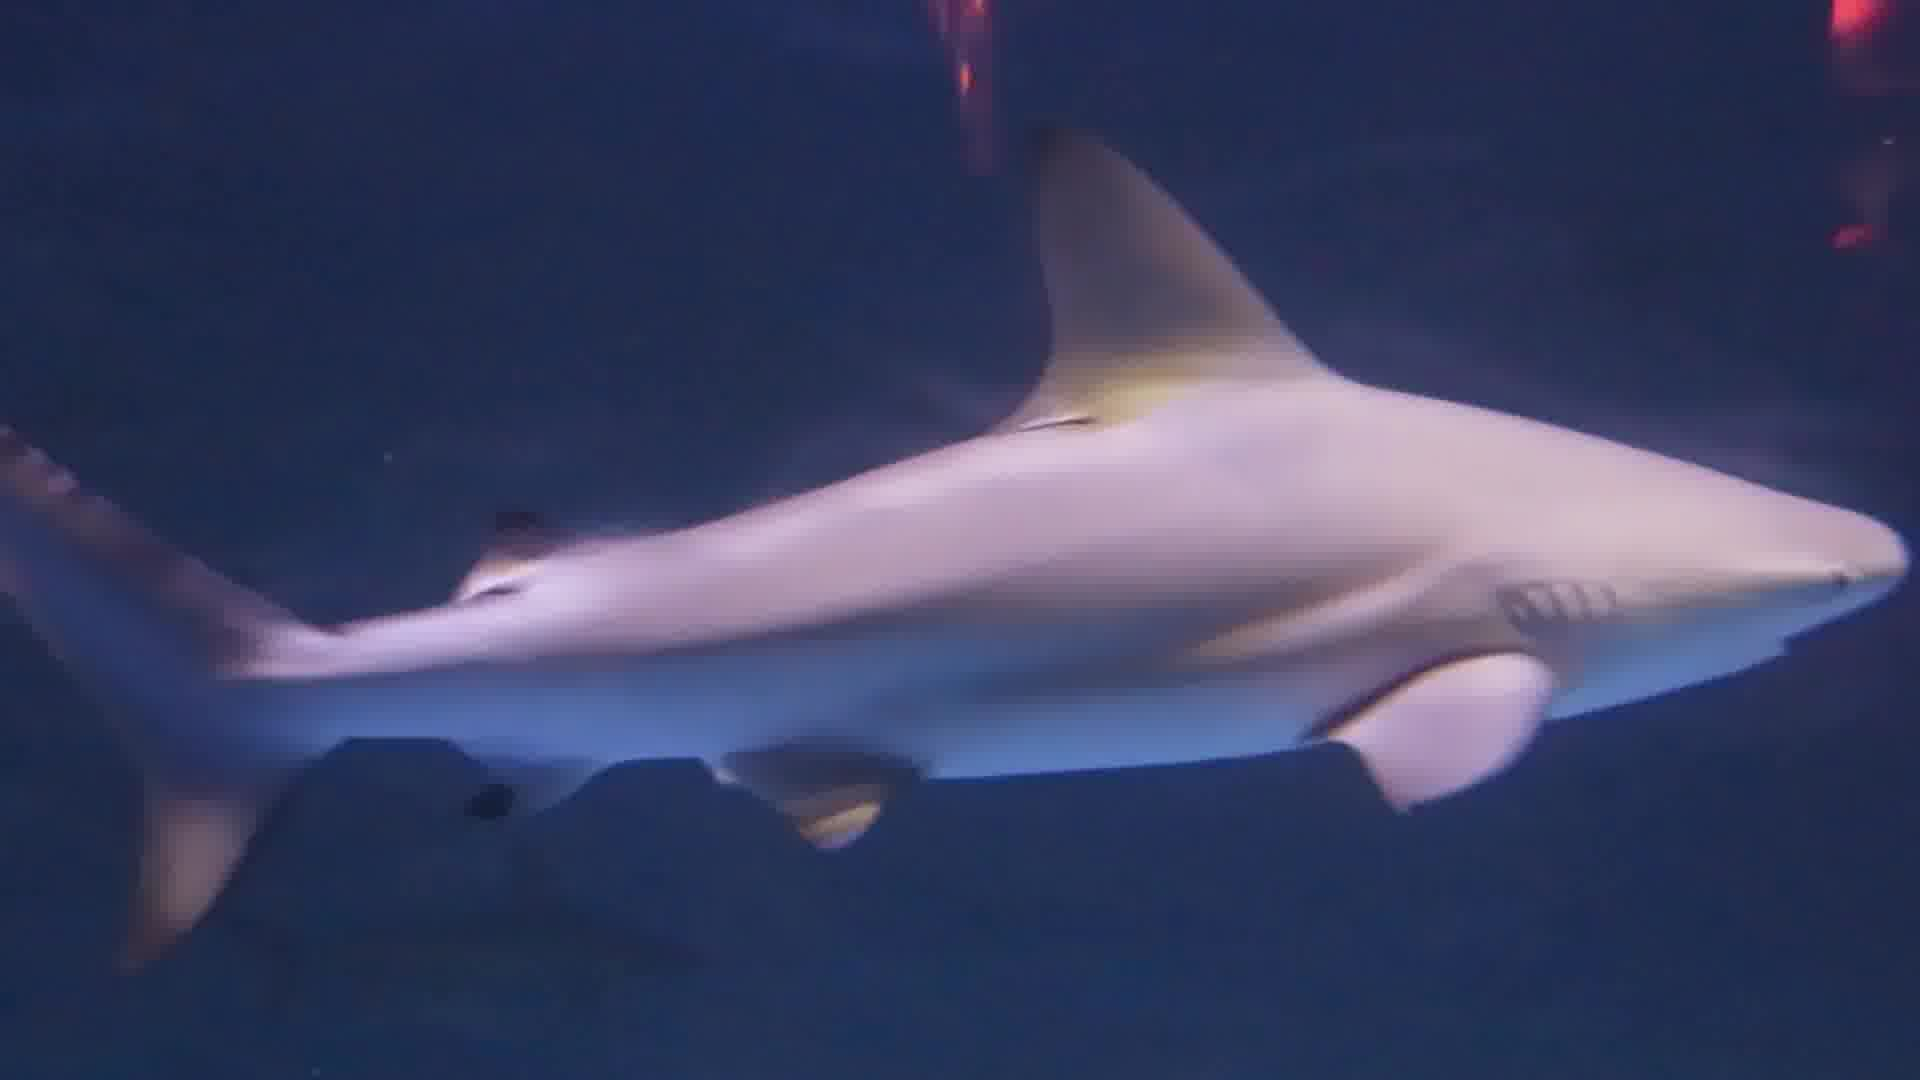Carcharhinus leucas: (62, 112, 1912, 920)
